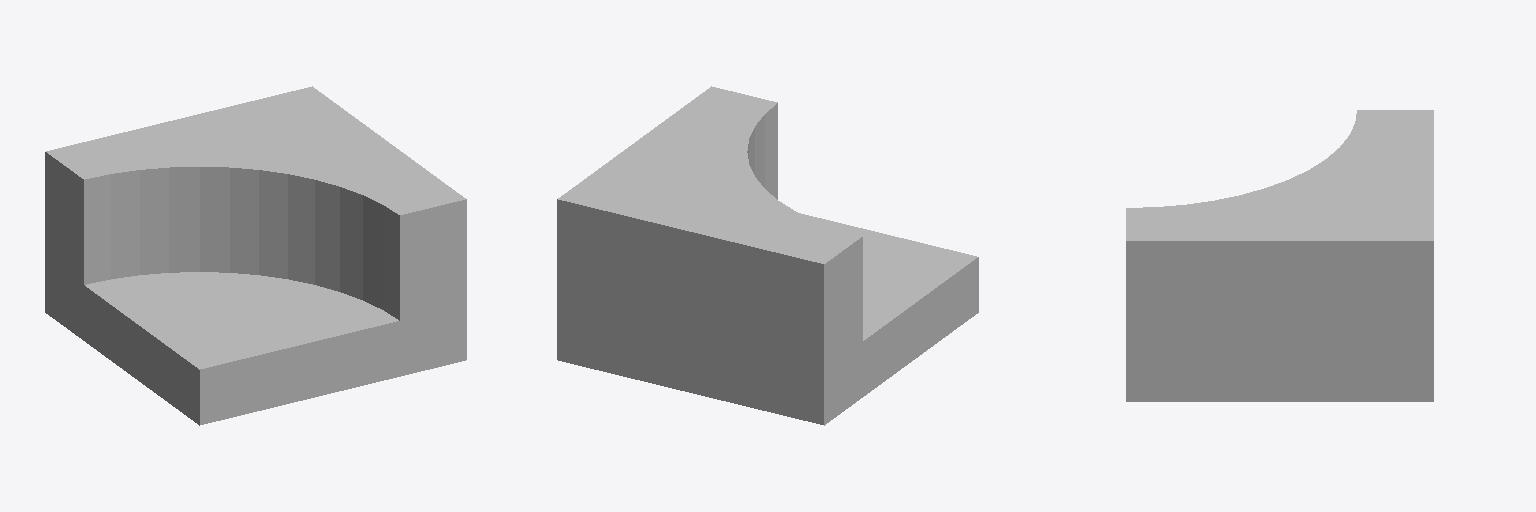
The model's file is tile240.obj.
The picture shows the model from 3 angles: view 1: azimuth 30°, elevation 25°; view 2: azimuth 150°, elevation 25°; view 3: azimuth 270°, elevation 25°; orthographic projection.
Parts seen in each view (by area): view 1: tile240; view 2: tile240; view 3: tile240.
Part boxes in pixels (x1,y1,x2,y2): tile240: (45, 86, 466, 425); tile240: (557, 86, 978, 425); tile240: (1126, 110, 1433, 401).
Size of the model in its own units: 1 by 0.5767 by 1.